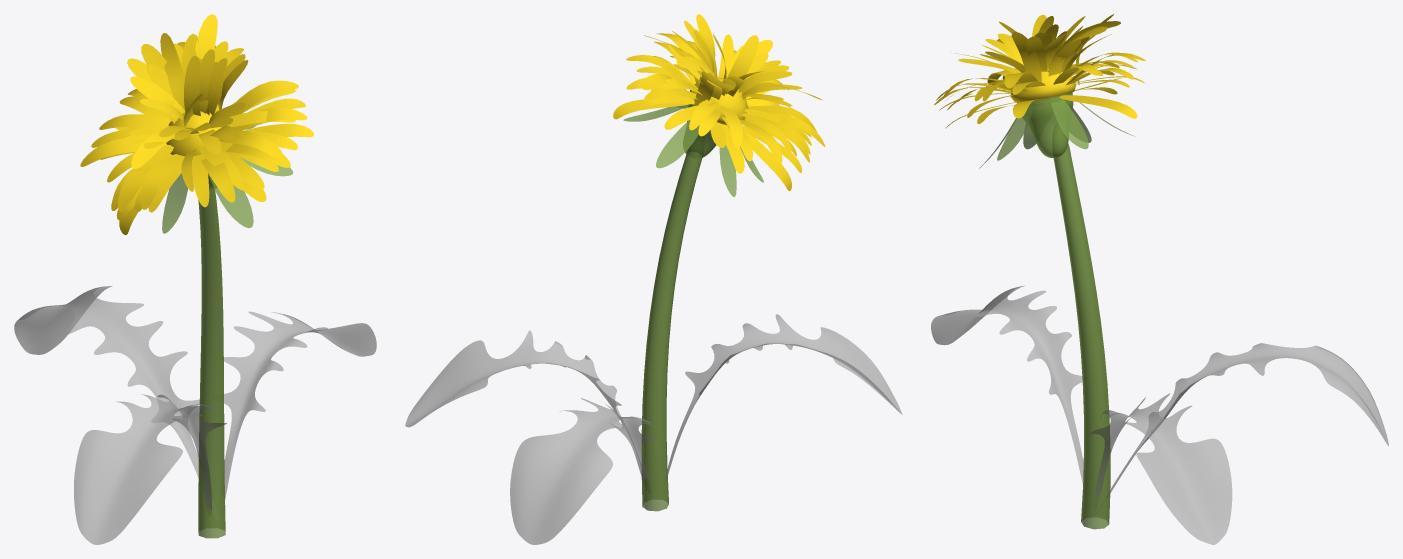
The model's file is object_EN-plants-dandelion_3.glb.
3 renders of one model, left to right at view 1: azimuth 30°, elevation 25°; view 2: azimuth 150°, elevation 25°; view 3: azimuth 270°, elevation 25°, orthographic. The views are drawn at different scales.
Parts seen in each view (by area): view 1: GEO-plants-dandelion-petals.006, GEO-leaf.dandelion.009, GEO-leaf.dandelion.008, GEO-plants-dandelion-stem.003, GEO-leaf.dandelion.007; view 2: GEO-plants-dandelion-petals.006, GEO-leaf.dandelion.008, GEO-plants-dandelion-stem.003, GEO-leaf.dandelion.007, GEO-leaf.dandelion.009; view 3: GEO-plants-dandelion-petals.006, GEO-plants-dandelion-stem.003, GEO-leaf.dandelion.007, GEO-leaf.dandelion.009, GEO-leaf.dandelion.008.
Boxes of the visible parts, x1=… form: GEO-plants-dandelion-petals.006: x1=80, y1=14, x2=313, y2=234; GEO-leaf.dandelion.009: x1=74, y1=394, x2=226, y2=544; GEO-leaf.dandelion.008: x1=14, y1=286, x2=199, y2=477; GEO-plants-dandelion-stem.003: x1=198, y1=177, x2=225, y2=538; GEO-leaf.dandelion.007: x1=224, y1=311, x2=376, y2=499; GEO-plants-dandelion-petals.006: x1=613, y1=14, x2=825, y2=196; GEO-leaf.dandelion.008: x1=510, y1=398, x2=656, y2=544; GEO-plants-dandelion-stem.003: x1=641, y1=135, x2=704, y2=511; GEO-leaf.dandelion.007: x1=405, y1=330, x2=641, y2=466; GEO-leaf.dandelion.009: x1=667, y1=314, x2=902, y2=475; GEO-plants-dandelion-petals.006: x1=934, y1=14, x2=1145, y2=168; GEO-plants-dandelion-stem.003: x1=1052, y1=123, x2=1110, y2=529; GEO-leaf.dandelion.007: x1=1087, y1=393, x2=1232, y2=544; GEO-leaf.dandelion.009: x1=931, y1=285, x2=1083, y2=483; GEO-leaf.dandelion.008: x1=1106, y1=343, x2=1388, y2=499.
Bounding box in the file's own units: 0.1012 × 0.1205 × 0.1004.
